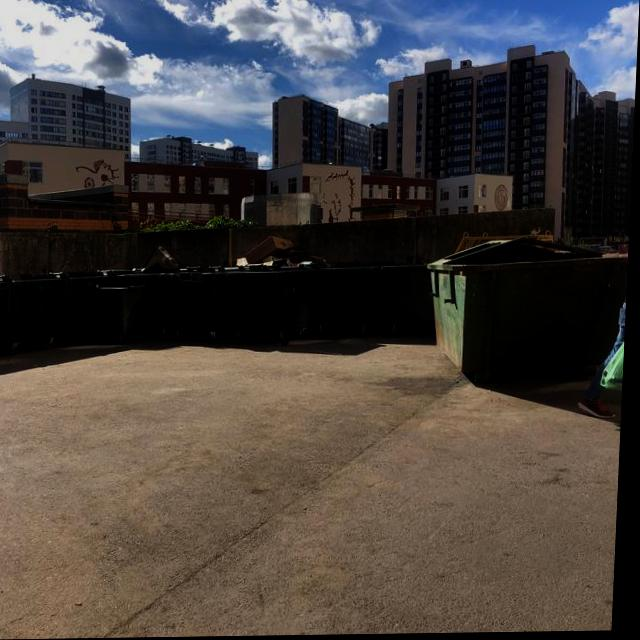Trash_Can_Empty: (6, 274, 67, 356), (319, 267, 382, 339), (175, 267, 233, 344), (381, 265, 440, 339), (65, 271, 118, 347), (96, 284, 148, 345)
Trash_Can_Full: (223, 235, 332, 346), (116, 246, 178, 342)
